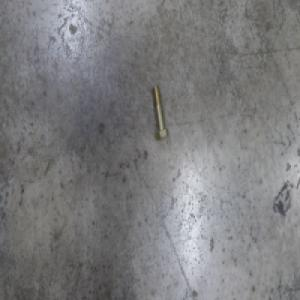Bolt: (152, 84, 169, 141)
